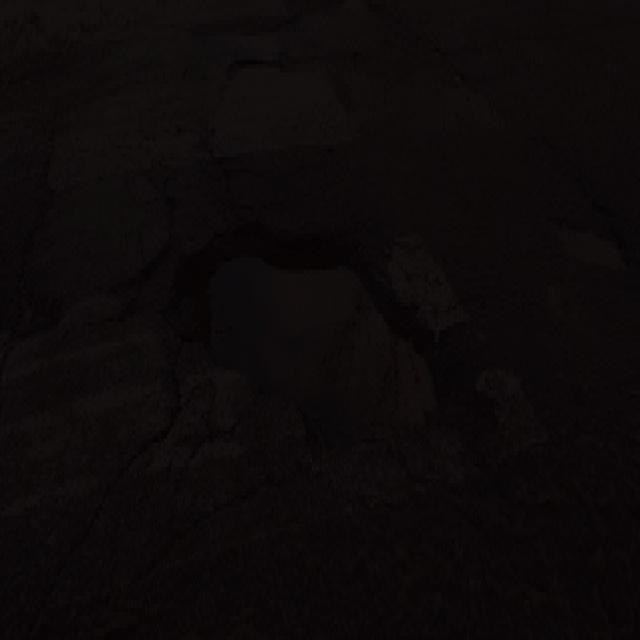Pothole: (158, 222, 458, 454), (182, 49, 370, 166), (540, 208, 638, 274), (0, 274, 57, 357)
